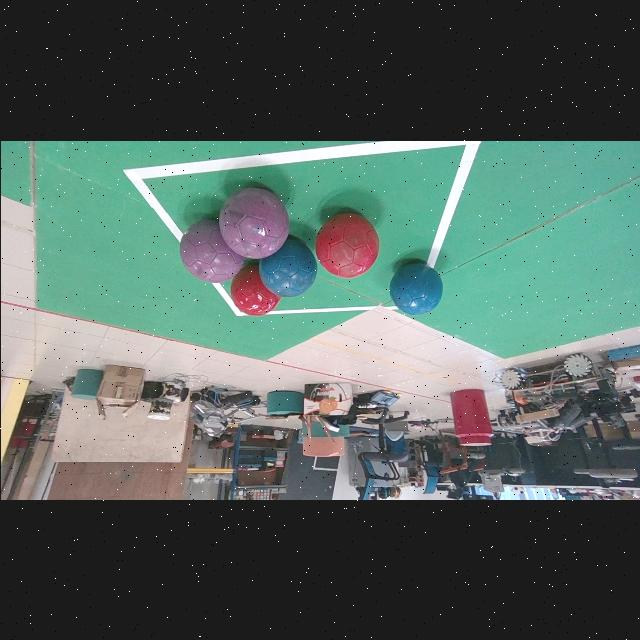B: (258, 237, 316, 297), (389, 263, 442, 315)
P: (218, 187, 288, 258), (179, 219, 244, 282)
R: (315, 212, 378, 277), (230, 264, 279, 315)
